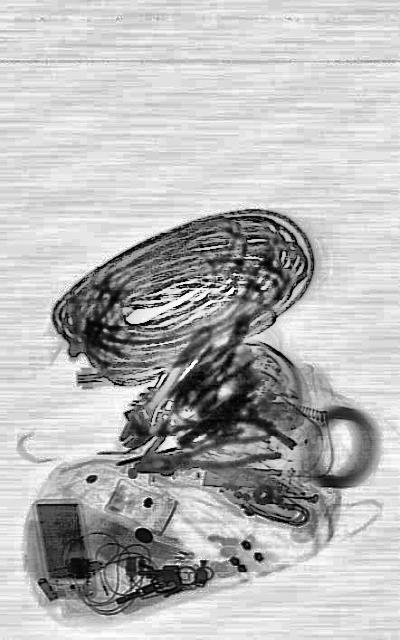Pliers: (132, 424, 280, 486)
Wrench: (110, 306, 222, 464)
